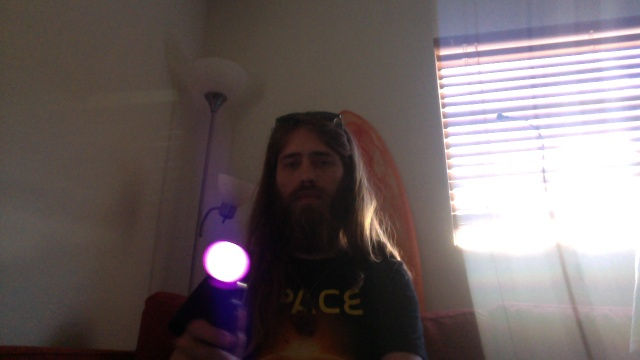wand: (204, 241, 251, 283)
